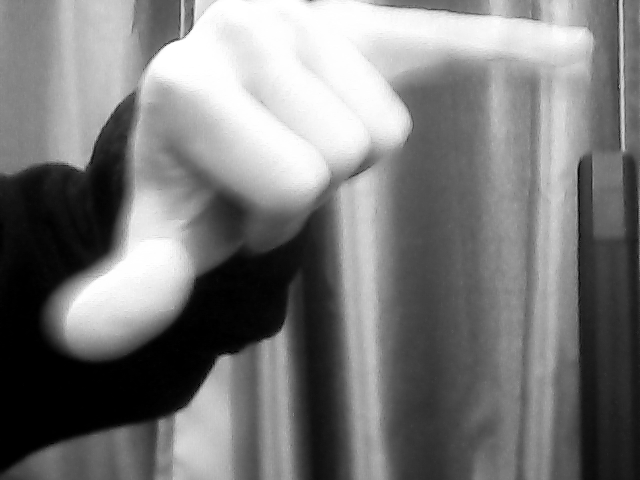aloha: (54, 1, 598, 368)
